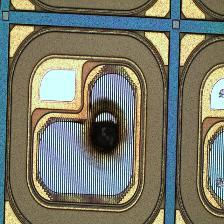PARTICLE: (78, 91, 133, 170)
